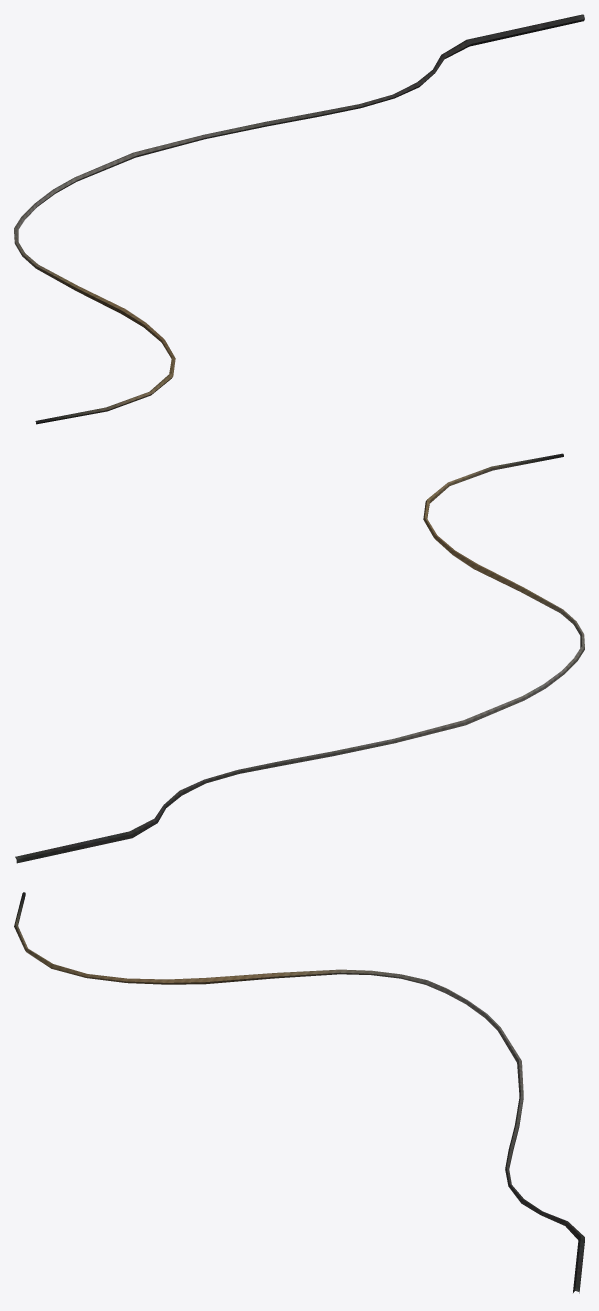
Rendered from generatorhose.glb.
The picture shows the model from 3 angles, top to bottom: view 1: azimuth 30°, elevation 25°; view 2: azimuth 210°, elevation 25°; view 3: azimuth 270°, elevation 25°; orthographic projection.
Parts seen in each view (by area): view 1: 0_lab_hose001; view 2: 0_lab_hose001; view 3: 0_lab_hose001.
Boxes of the visible parts, x1=… form: 0_lab_hose001: x1=14, y1=14, x2=584, y2=424; 0_lab_hose001: x1=15, y1=453, x2=584, y2=863; 0_lab_hose001: x1=14, y1=892, x2=584, y2=1293.
Bounding box in the file's own units: 11.51 × 0.0914 × 6.93.
Materials: 1 (1 with a texture image).
